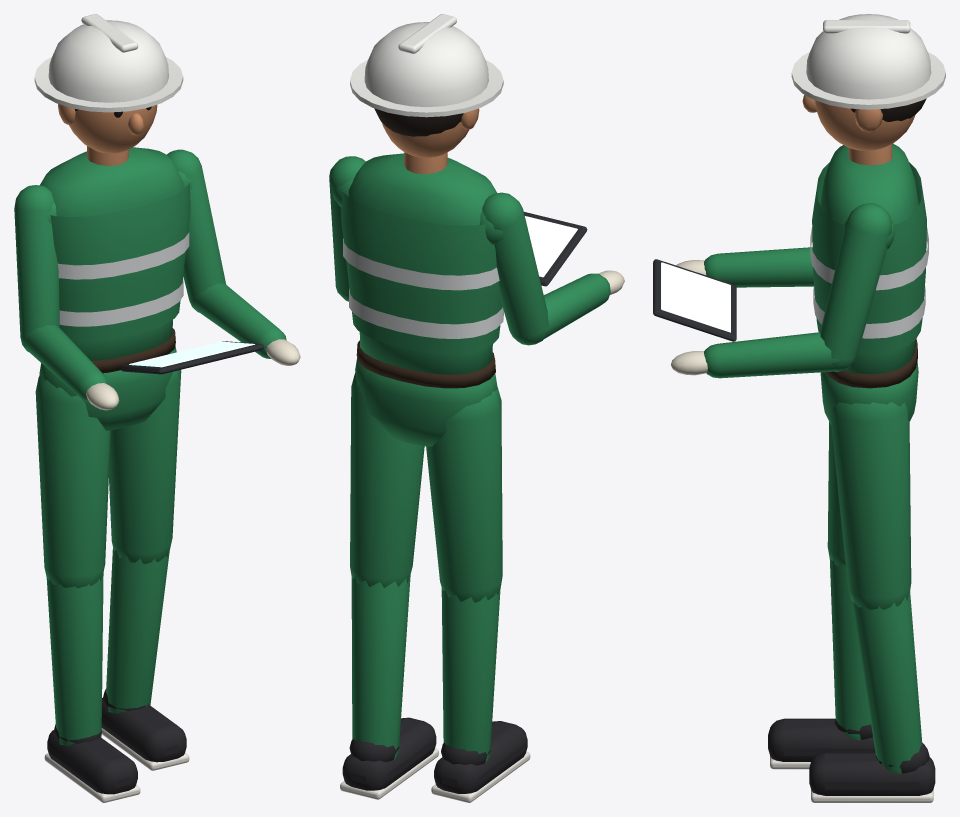
File: crew_tablet.fbx
3 renders of one model, left to right at view 1: azimuth 30°, elevation 25°; view 2: azimuth 150°, elevation 25°; view 3: azimuth 270°, elevation 25°, orthographic. The views are drawn at different scales.
Visible parts, largest first — view 1: crew_tablet; view 2: crew_tablet; view 3: crew_tablet.
Boxes of the visible parts, <box> form: crew_tablet: <box>14,14,300,802</box>; crew_tablet: <box>329,14,624,802</box>; crew_tablet: <box>653,14,945,802</box>.
Size of the model in its own units: 0.5311 by 1.78 by 0.6266.
